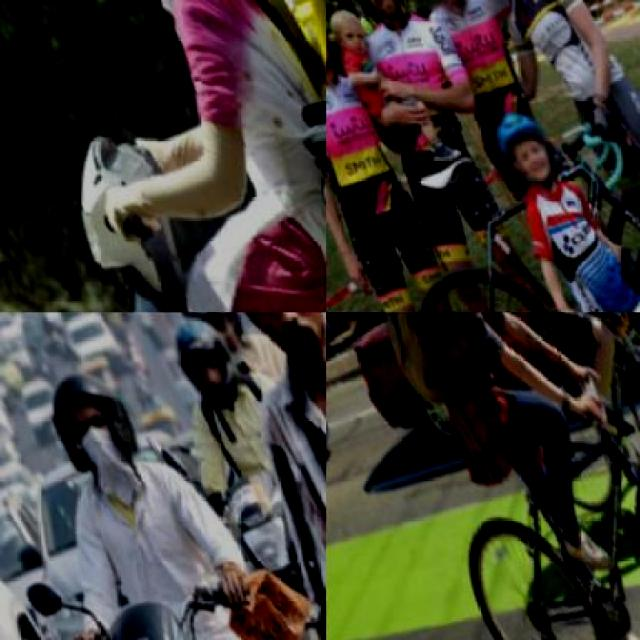With Helmet: (28, 343, 152, 488), (479, 86, 568, 192), (156, 312, 252, 410), (163, 312, 262, 368), (334, 0, 417, 29), (326, 0, 351, 86)
